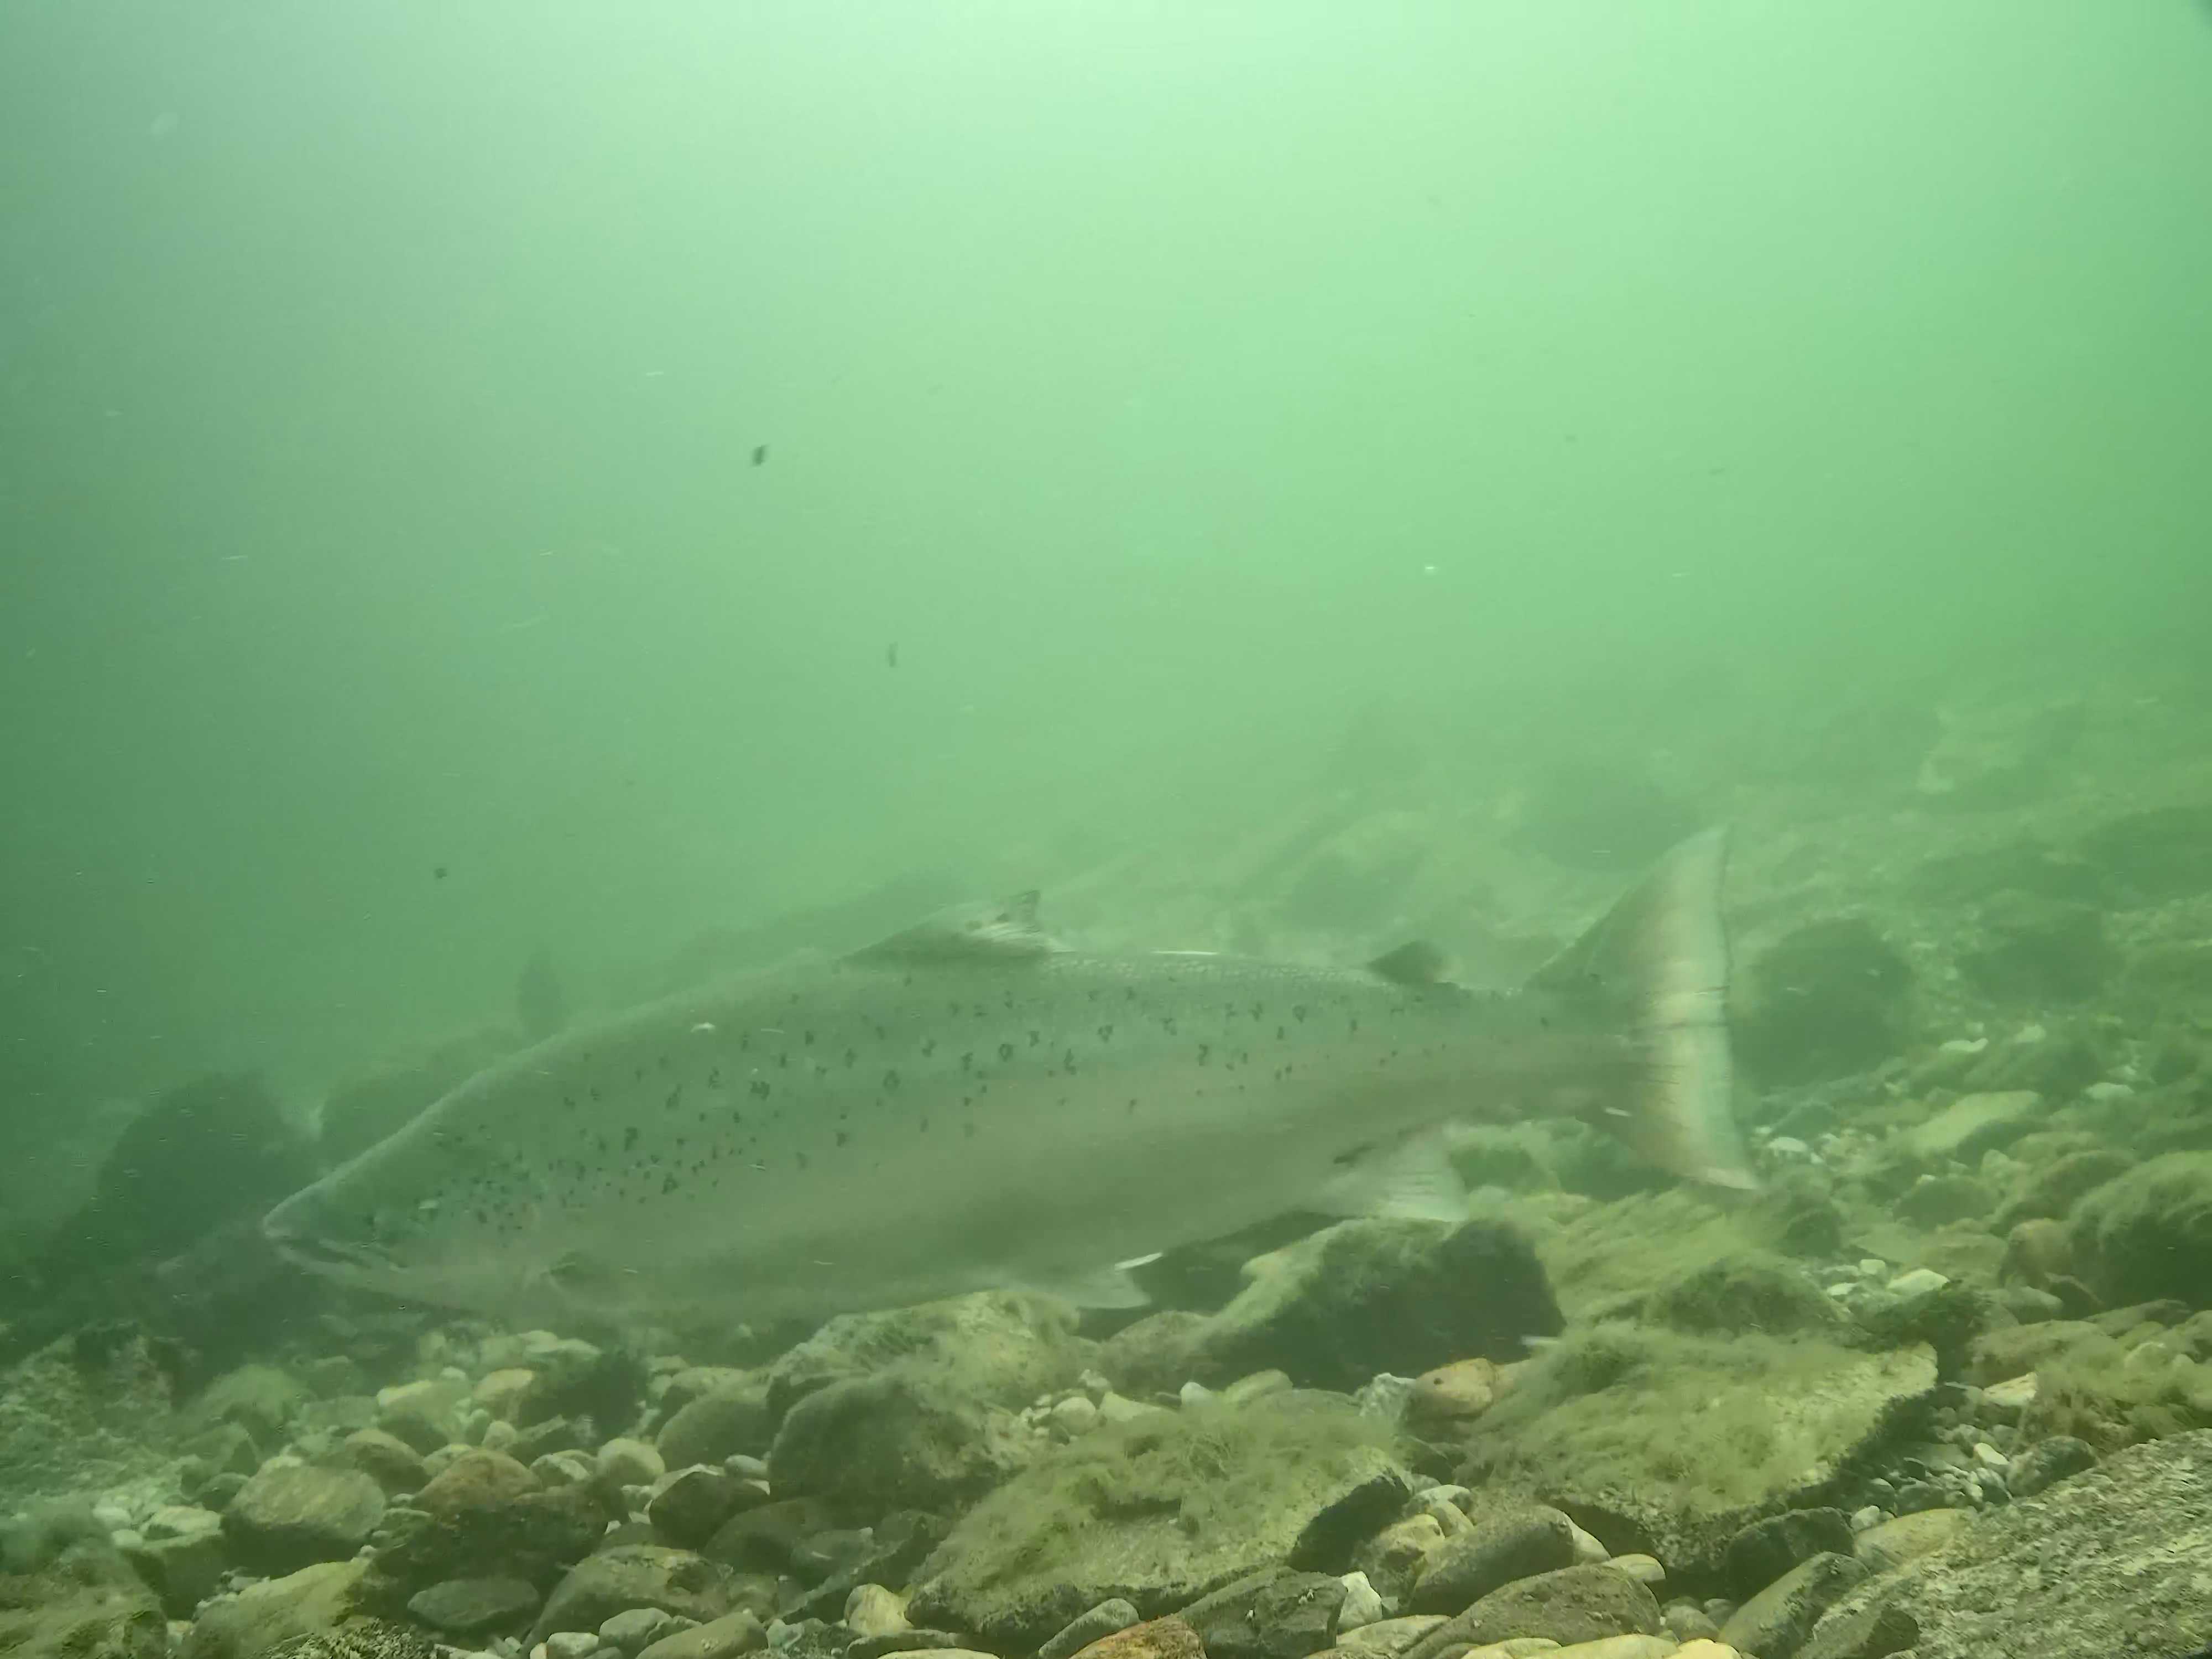salmon: (258, 817, 1770, 1331)
